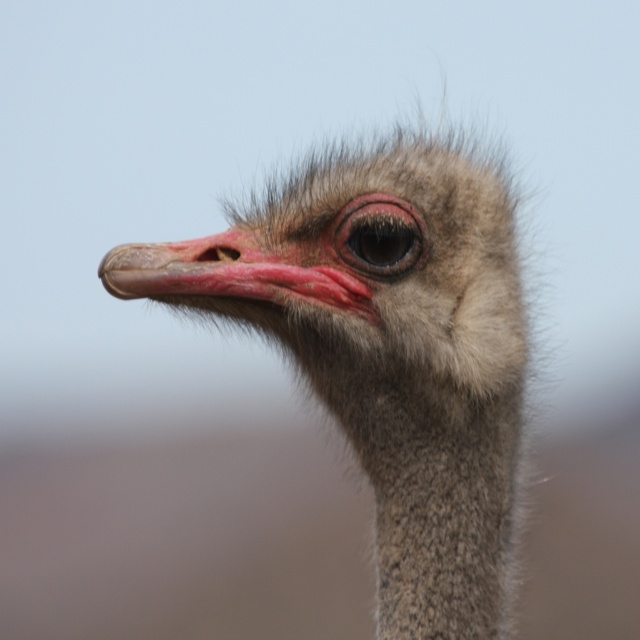Ostrich: (94, 126, 521, 639)
